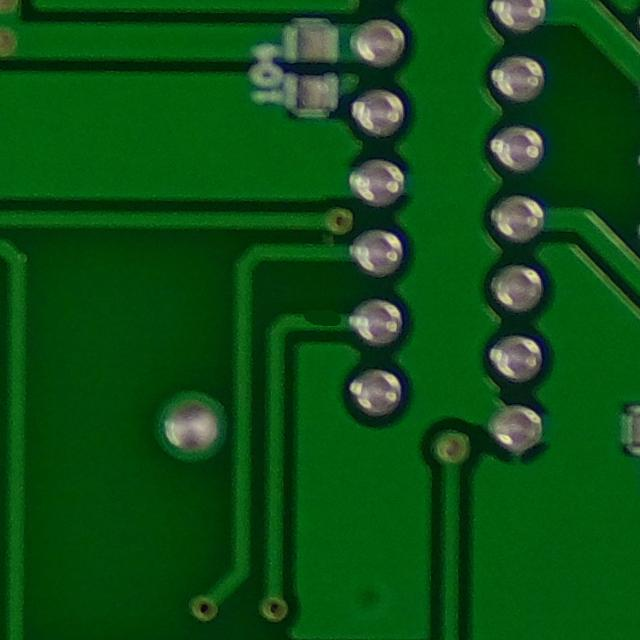mouse_bite: (288, 298, 352, 342)
